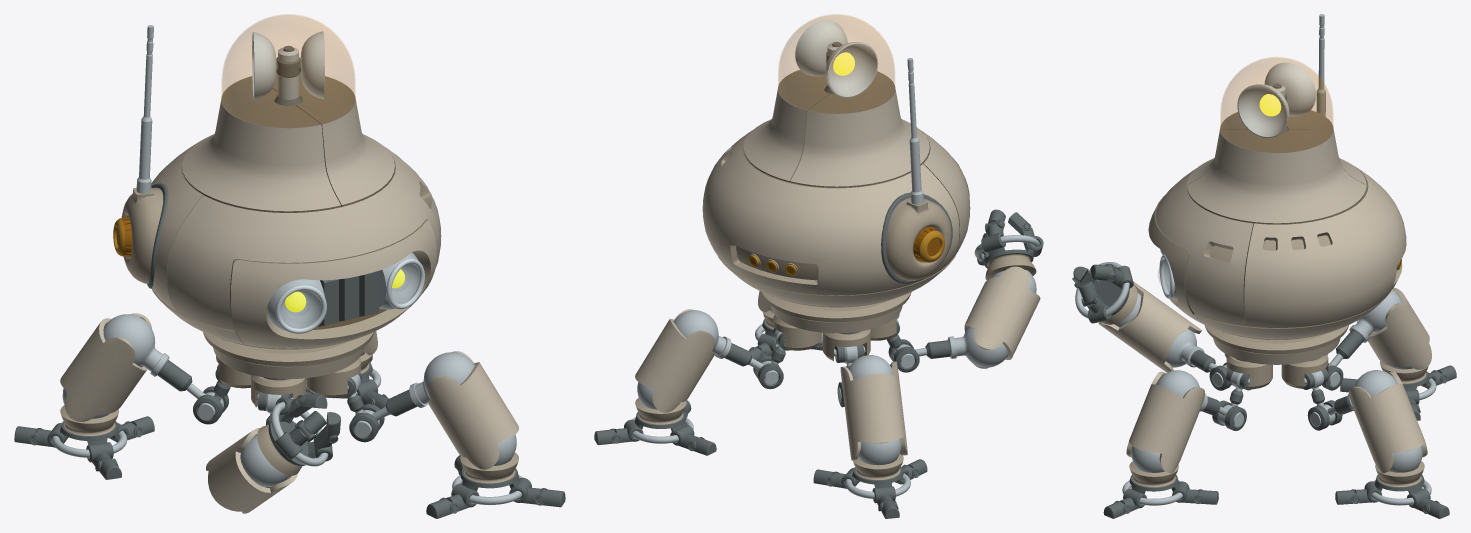
The picture shows the model from 3 angles, left to right: view 1: azimuth 30°, elevation 25°; view 2: azimuth 150°, elevation 25°; view 3: azimuth 270°, elevation 25°; orthographic projection. The views are drawn at different scales.
Parts seen in each view (by area): view 1: Cylinder.027, Cylinder.028, Sphere.007, Cylinder.049, Cylinder.009, Cylinder.021, Cylinder.001, Cylinder.056, Cylinder.036, Cylinder.051, Sphere.005, Sphere.021 (+26 smaller); view 2: Cylinder.051, Cylinder.027, Sphere.007, Cylinder.015, Cylinder.021, Cylinder.056, Cylinder.036, Sphere.021, Cylinder.001, Cylinder.050, Cylinder.028, Sphere.014 (+18 smaller); view 3: Cylinder.051, Cylinder.027, Sphere.007, Cylinder.028, Cylinder.009, Cylinder.015, Sphere.021, Cylinder.036, Cylinder.001, Cylinder.021, Cylinder.050, Cylinder.049 (+22 smaller).
Boxes of the visible parts, x1=… form: Cylinder.027: x1=182, y1=72, x2=394, y2=212; Cylinder.028: x1=167, y1=156, x2=441, y2=330; Sphere.007: x1=222, y1=14, x2=354, y2=126; Cylinder.049: x1=230, y1=219, x2=436, y2=348; Cylinder.009: x1=427, y1=351, x2=519, y2=469; Cylinder.021: x1=60, y1=313, x2=151, y2=421; Cylinder.001: x1=203, y1=332, x2=373, y2=378; Cylinder.056: x1=113, y1=187, x2=163, y2=283; Cylinder.036: x1=206, y1=428, x2=297, y2=513; Cylinder.051: x1=151, y1=141, x2=419, y2=311; Sphere.005: x1=267, y1=252, x2=419, y2=331; Sphere.021: x1=252, y1=31, x2=324, y2=99; Cylinder.051: x1=702, y1=130, x2=959, y2=295; Cylinder.027: x1=743, y1=70, x2=929, y2=187; Sphere.007: x1=778, y1=14, x2=894, y2=112; Cylinder.015: x1=635, y1=309, x2=714, y2=412; Cylinder.021: x1=840, y1=361, x2=907, y2=460; Cylinder.056: x1=886, y1=197, x2=951, y2=280; Cylinder.036: x1=964, y1=266, x2=1040, y2=368; Sphere.021: x1=795, y1=20, x2=878, y2=97; Cylinder.001: x1=762, y1=292, x2=911, y2=333; Cylinder.050: x1=718, y1=253, x2=956, y2=306; Cylinder.028: x1=920, y1=130, x2=970, y2=263; Sphere.014: x1=845, y1=454, x2=910, y2=498; Cylinder.051: x1=1243, y1=166, x2=1406, y2=327; Cylinder.027: x1=1187, y1=110, x2=1366, y2=224; Sphere.007: x1=1220, y1=57, x2=1332, y2=151; Cylinder.028: x1=1155, y1=168, x2=1253, y2=326; Cylinder.009: x1=1126, y1=371, x2=1204, y2=473; Cylinder.015: x1=1349, y1=371, x2=1427, y2=473; Sphere.021: x1=1237, y1=62, x2=1316, y2=137; Cylinder.036: x1=1098, y1=281, x2=1201, y2=372; Cylinder.001: x1=1204, y1=325, x2=1348, y2=364; Cylinder.021: x1=1357, y1=287, x2=1431, y2=369; Cylinder.050: x1=1194, y1=291, x2=1390, y2=339; Cylinder.049: x1=1148, y1=195, x2=1203, y2=324.
Size of the model in its own units: 404 by 496 by 451.
